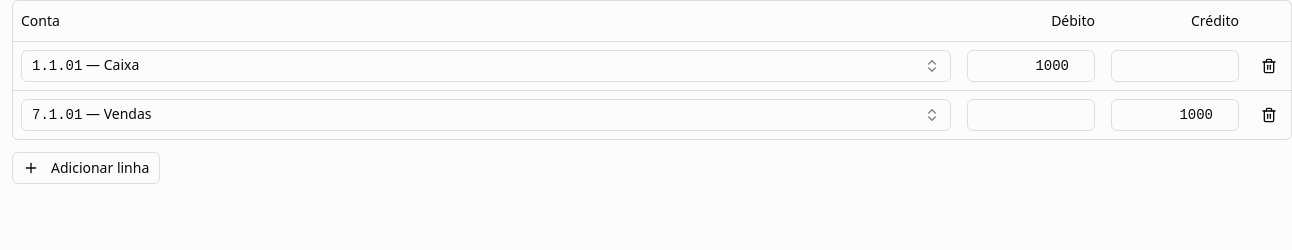
Test: LinhasLancamentoEditor › adiciona uma linha vazia ao clicar em "Adicionar linha"
Click the button "Adicionar linha" at (86, 168), box left=12, top=152, right=160, bottom=184
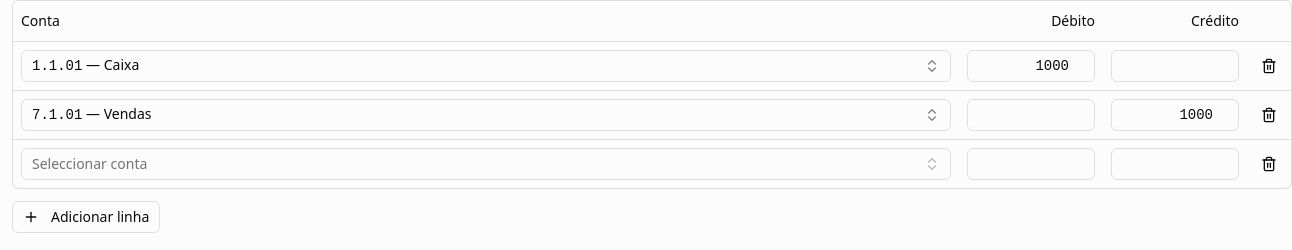
Now the number of number fields named "Débito" is 3, box left=967, top=50, right=1095, bottom=82; left=967, top=98, right=1095, bottom=130; left=967, top=148, right=1095, bottom=180
